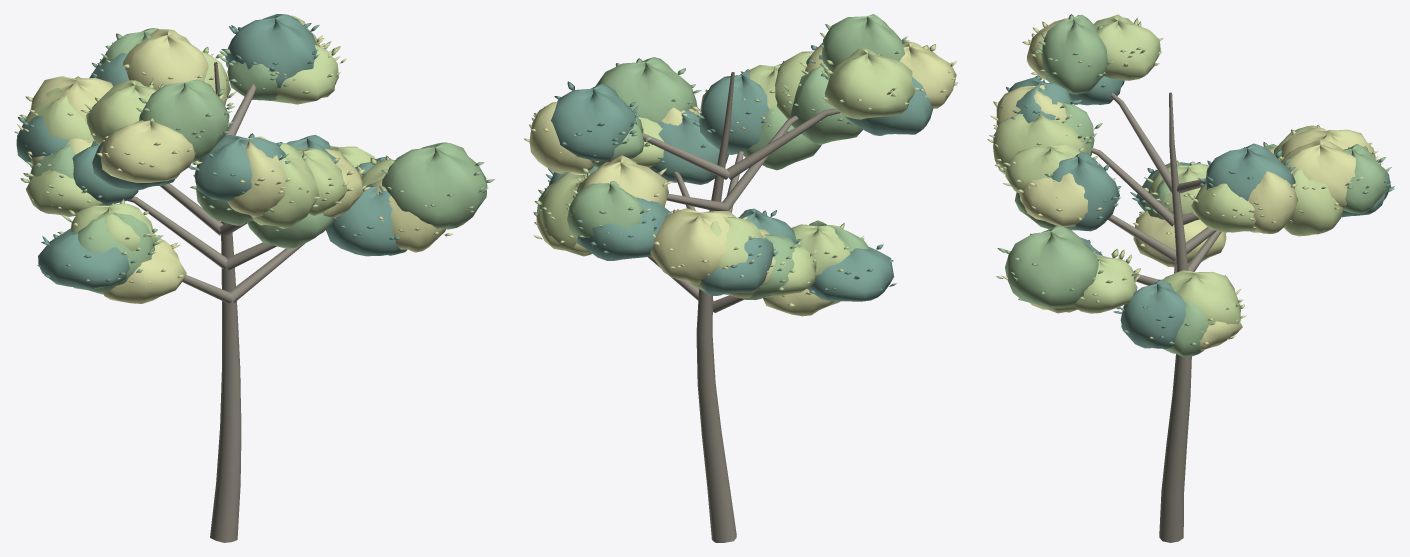
File: maple_low.glb
The picture shows the model from 3 angles, left to right: view 1: azimuth 30°, elevation 25°; view 2: azimuth 150°, elevation 25°; view 3: azimuth 270°, elevation 25°; orthographic projection. The views are drawn at different scales.
Parts seen in each view (by area): view 1: maple_low; view 2: maple_low; view 3: maple_low.
Boxes of the visible parts, x1=… form: maple_low: x1=14, y1=14, x2=494, y2=542; maple_low: x1=524, y1=14, x2=958, y2=542; maple_low: x1=987, y1=14, x2=1394, y2=542.
Bounding box in the file's own units: 7.13 × 9.3 × 7.21.
